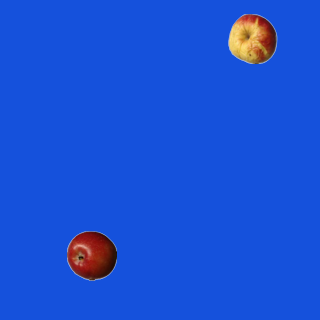Apple Braeburn: (66, 230, 116, 280)
Apple Red Yellow 1: (227, 13, 277, 63)
